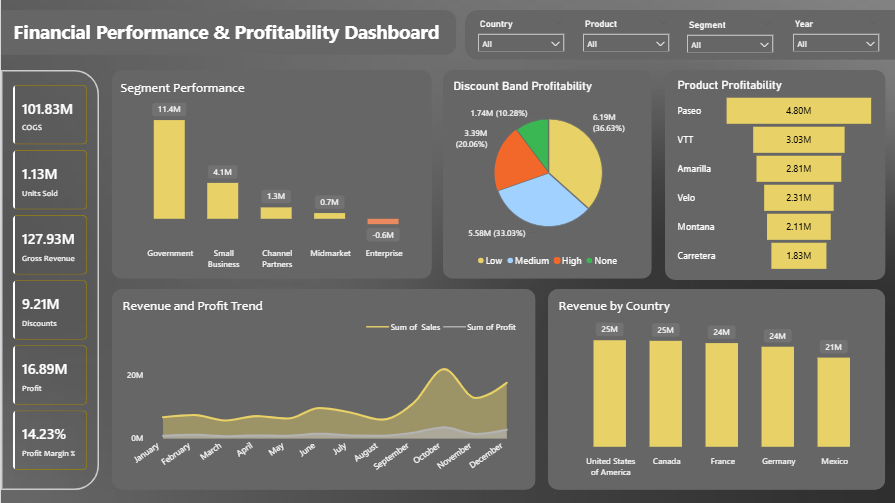

Layout of this report page (visuals, bound fields, positions):
{"tool":"powerbi","page":{"name":"Financial Analysis","canvas":[1280,720],"ordinal":0},"visuals":[{"type":"shape","box":[662.8,14.3,617.2,71.3],"z":0,"group":"g8"},{"type":"shape","box":[0,14.4,650.6,64.1],"z":0,"group":"g7"},{"type":"shape","box":[0,100,140,600],"z":0,"group":"g1"},{"type":"shape","box":[158.3,100,456.7,298.3],"z":0,"group":"g4"},{"type":"shape","box":[631.7,100,298.3,298.3],"z":0,"group":"g5"},{"type":"shape","box":[948.3,100,315,300],"z":0,"group":"g6"},{"type":"shape","box":[158.3,413.3,605,286.7],"z":0,"group":"g2"},{"type":"shape","box":[781.7,413.3,481.7,286.7],"z":0,"group":"g3"},{"type":"funnel","title":"Product Profitability","fields":{"Category":["financials.Product"],"Y":["Sum(financials.Profit)"]},"box":[961.6,111.7,291.7,281.8],"z":5,"group":"g6"},{"type":"pieChart","title":"Discount Band Profitability","fields":{"Category":["financials.Discount Band"],"Y":["Sum(financials.Profit)"]},"box":[641.7,113.3,281.7,278.3],"z":6,"group":"g5"},{"type":"textbox","box":[5.3,21.3,636.5,52.3],"z":1000,"group":"g7"},{"type":"group","id":"g1","title":"Group 1","box":[0,100,140,600],"z":1000},{"type":"cardVisual","fields":{"Data":["financials.COGS","financials.Total Units","Sum(financials.Gross Sales)","Sum(financials.Discounts)","financials.Total Profit","financials.Profit Margin %"]},"box":[0,104.6,140,588.3],"z":1000,"group":"g1"},{"type":"clusteredColumnChart","title":"Segment Performance","fields":{"Category":["financials.Segment"],"Y":["Sum(financials.Profit)"]},"box":[165.7,113.3,440.9,280],"z":1000,"group":"g4"},{"type":"areaChart","title":"Revenue and Profit Trend","fields":{"Category":["financials.Date.Variation.Date Hierarchy.Month"],"Y":["Sum(financials. Sales)","Sum(financials.Profit)"]},"box":[167.7,424.4,576.7,270],"z":1000,"group":"g2"},{"type":"clusteredColumnChart","title":"Revenue by Country","fields":{"Category":["financials.Country"],"Y":["Sum(financials. Sales)"]},"box":[792.3,424.4,461.7,265],"z":1000,"group":"g3"},{"type":"group","id":"g2","title":"Group 2","box":[158.3,413.3,605,286.7],"z":2000},{"type":"group","id":"g3","title":"Group 3","box":[781.7,413.3,481.7,286.7],"z":3000},{"type":"group","id":"g4","title":"Group 4","box":[158.3,100,456.7,298.3],"z":4000},{"type":"group","id":"g5","title":"Group 5","box":[631.7,100,298.3,298.3],"z":5000},{"type":"group","id":"g6","title":"Group 6","box":[948.3,100,315,300],"z":6000},{"type":"group","id":"g7","title":"Group 7","box":[0,14.4,650.6,64.1],"z":7000},{"type":"slicer","fields":{"Values":["financials.Product"]},"box":[820.9,21.6,142.9,52.1],"z":8000,"group":"g8"},{"type":"slicer","fields":{"Values":["financials.Segment"]},"box":[970.2,23.3,142.9,52.1],"z":9000,"group":"g8"},{"type":"slicer","fields":{"Values":["financials.Country"]},"box":[671.7,21.6,142.9,52.1],"z":10000,"group":"g8"},{"type":"slicer","fields":{"Values":["financials.Date.Variation.Date Hierarchy.Year"]},"box":[1121,21.6,142.9,52.1],"z":11000,"group":"g8"},{"type":"group","id":"g8","title":"Group 8","box":[662.8,14.3,617.2,71.3],"z":11001}]}

Visuals, with their boxes in screenshot pixels (x1, y1, x2, y2), scaled from the page's 1280x720 canvas onto the 895x503 screenshot:
shape: select_region(463, 10, 894, 60)
shape: select_region(0, 10, 455, 55)
shape: select_region(0, 70, 98, 489)
shape: select_region(111, 70, 430, 278)
shape: select_region(442, 70, 650, 278)
shape: select_region(663, 70, 883, 279)
shape: select_region(111, 289, 534, 489)
shape: select_region(547, 289, 883, 489)
"Product Profitability" funnel: select_region(672, 78, 876, 275)
"Discount Band Profitability" pieChart: select_region(449, 79, 646, 274)
textbox: select_region(4, 15, 449, 51)
"Group 1" group: select_region(0, 70, 98, 489)
cardVisual - financials.COGS x financials.Total Units: select_region(0, 73, 98, 484)
"Segment Performance" clusteredColumnChart: select_region(116, 79, 424, 275)
"Revenue and Profit Trend" areaChart: select_region(117, 296, 520, 485)
"Revenue by Country" clusteredColumnChart: select_region(554, 296, 877, 482)
"Group 2" group: select_region(111, 289, 534, 489)
"Group 3" group: select_region(547, 289, 883, 489)
"Group 4" group: select_region(111, 70, 430, 278)
"Group 5" group: select_region(442, 70, 650, 278)
"Group 6" group: select_region(663, 70, 883, 279)
"Group 7" group: select_region(0, 10, 455, 55)
slicer - financials.Product: select_region(574, 15, 674, 51)
slicer - financials.Segment: select_region(678, 16, 778, 53)
slicer - financials.Country: select_region(470, 15, 570, 51)
slicer - financials.Date.Variation.Date Hierarchy.Year: select_region(784, 15, 884, 51)
"Group 8" group: select_region(463, 10, 894, 60)
